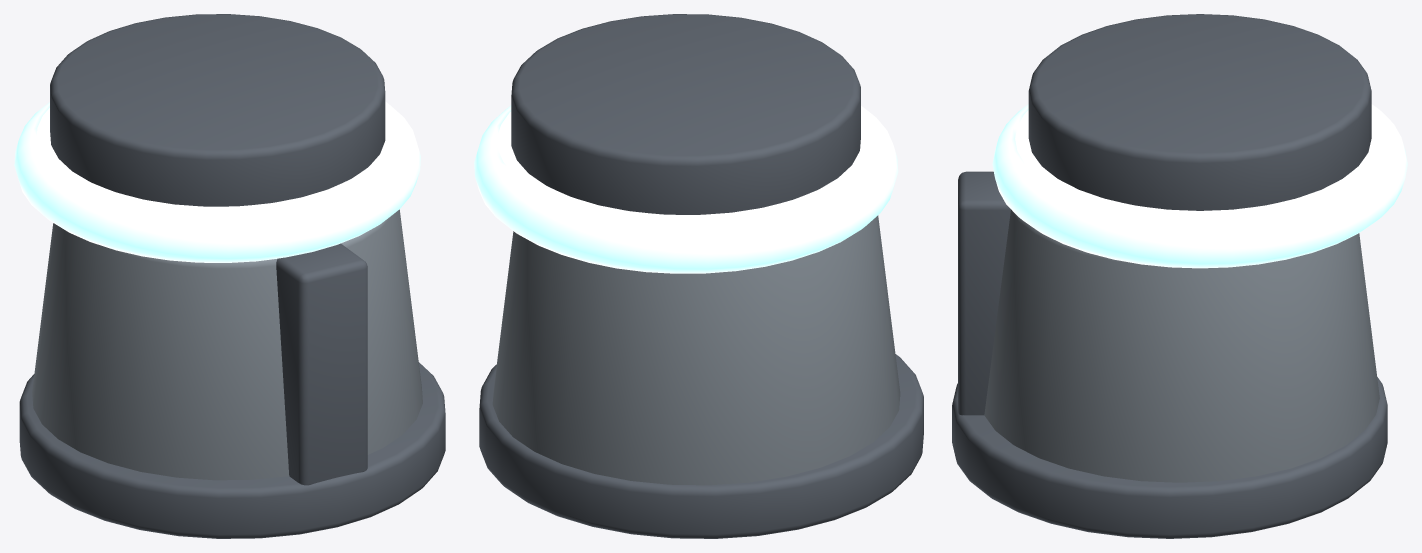
File: hecarim_hoofHand.glb
3 renders of one model, left to right at view 1: azimuth 30°, elevation 25°; view 2: azimuth 150°, elevation 25°; view 3: azimuth 270°, elevation 25°, orthographic. The views are drawn at different scales.
Visible parts, largest first — view 1: hecarim_hoofHand; view 2: hecarim_hoofHand; view 3: hecarim_hoofHand.
Part boxes in pixels (box(x1,y1,x2,y2)): hecarim_hoofHand: box(14, 14, 445, 538); hecarim_hoofHand: box(474, 14, 923, 538); hecarim_hoofHand: box(952, 14, 1407, 538).
Bounding box in the file's own units: 0.216 × 0.2 × 0.226.
